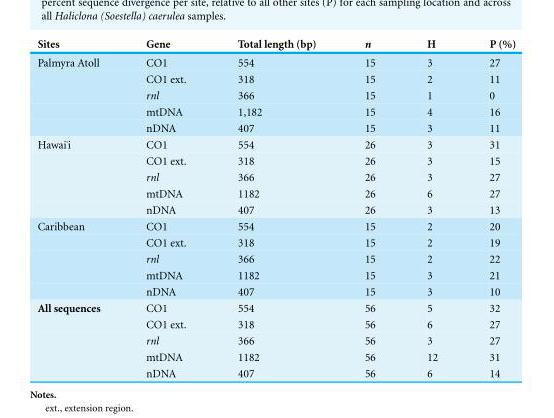table: (36, 37, 515, 379)
table column: (211, 37, 339, 379), (122, 37, 211, 379), (36, 37, 122, 379), (400, 37, 462, 379), (339, 37, 400, 379), (462, 37, 515, 379)
table column header: (36, 37, 515, 52)
table row: (36, 52, 515, 70), (36, 86, 515, 103), (36, 119, 515, 136), (36, 168, 515, 185), (36, 217, 515, 234), (36, 266, 515, 283), (36, 315, 515, 332), (36, 70, 515, 86), (36, 103, 515, 119), (36, 136, 515, 152), (36, 152, 515, 168), (36, 185, 515, 201), (36, 201, 515, 217), (36, 234, 515, 250), (36, 250, 515, 266), (36, 283, 515, 299), (36, 299, 515, 315), (36, 332, 515, 348), (36, 348, 515, 364), (36, 37, 515, 52), (36, 364, 515, 379)
table spanning cell: (36, 52, 122, 136), (36, 217, 122, 299), (36, 136, 122, 217), (36, 299, 122, 379)
